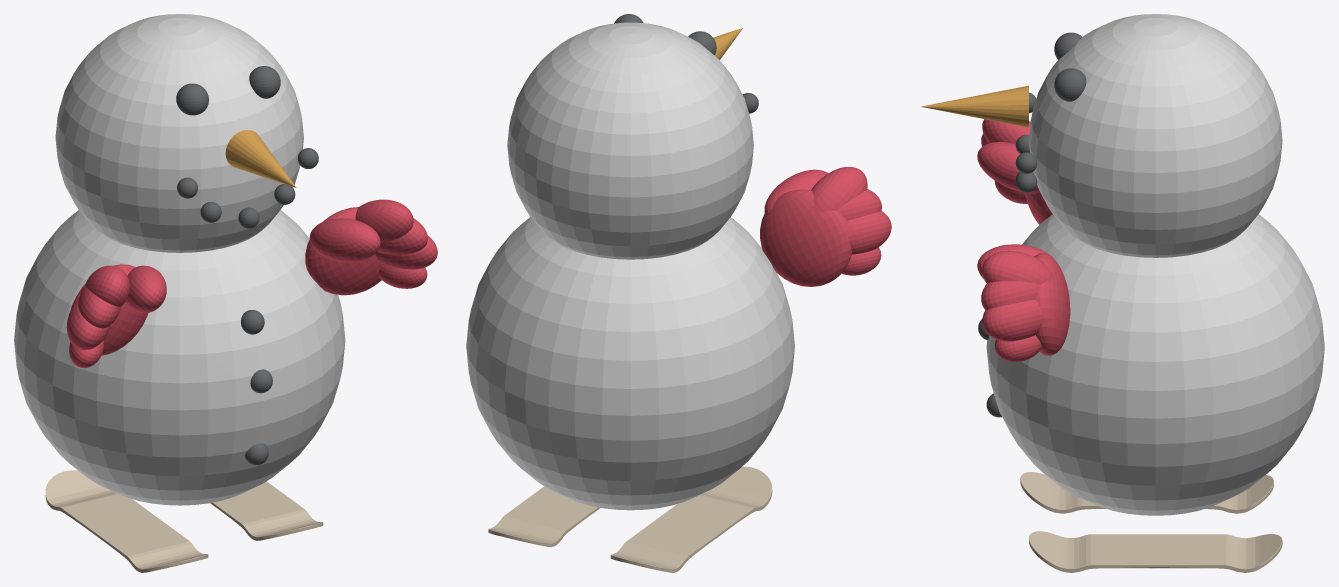
File: yuki.glb
3 views of the same model, side by side, from view 1: azimuth 30°, elevation 25°; view 2: azimuth 150°, elevation 25°; view 3: azimuth 270°, elevation 25° (orthographic). The views are drawn at different scales.
Visible parts, largest first — view 1: Mesh_Mesh_head_geo.001_lambert2SG.001; view 2: Mesh_Mesh_head_geo.001_lambert2SG.001; view 3: Mesh_Mesh_head_geo.001_lambert2SG.001.
Part boxes in pixels (box(x1,y1,x2,y2)): Mesh_Mesh_head_geo.001_lambert2SG.001: box(14, 14, 437, 572); Mesh_Mesh_head_geo.001_lambert2SG.001: box(466, 14, 891, 572); Mesh_Mesh_head_geo.001_lambert2SG.001: box(921, 14, 1324, 572).
Size of the model in its own units: 50.47 by 65.5 by 47.85.
